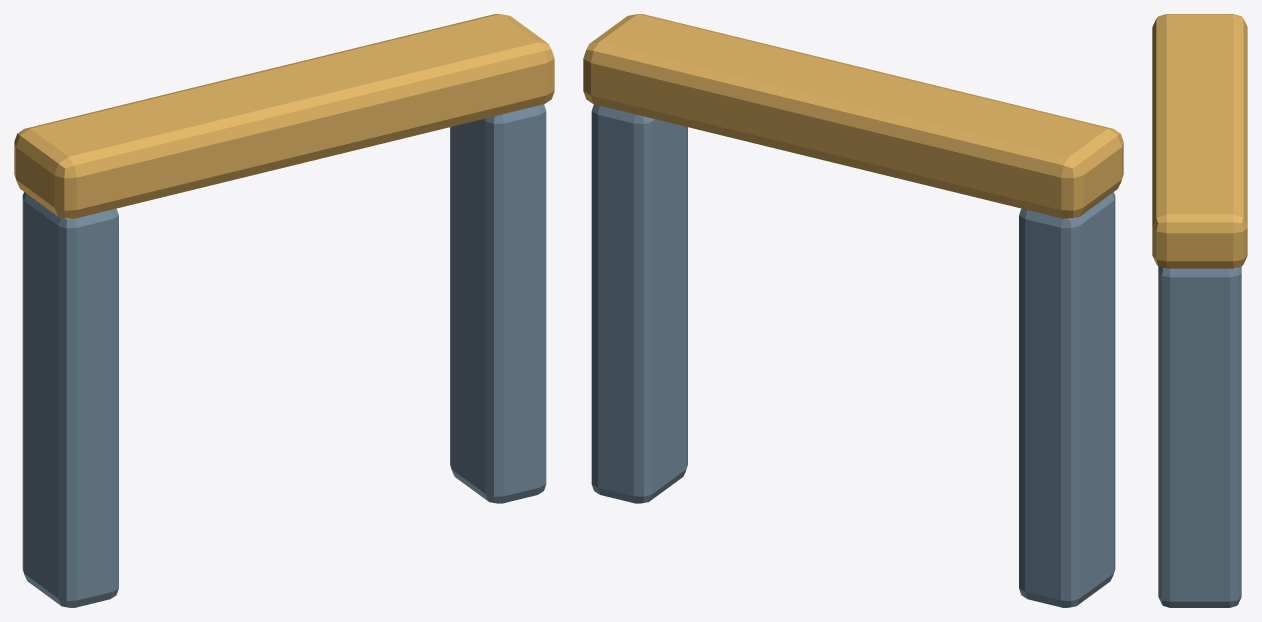
3 views of the same model, side by side, from view 1: azimuth 30°, elevation 25°; view 2: azimuth 150°, elevation 25°; view 3: azimuth 270°, elevation 25° (orthographic). The views are drawn at different scales.
Visible parts, largest first — view 1: ai_export.015; view 2: ai_export.015; view 3: ai_export.015.
Part boxes in pixels (<box>): ai_export.015: <box>14,14,554,607</box>; ai_export.015: <box>583,14,1123,607</box>; ai_export.015: <box>1152,14,1247,607</box>.
Size of the model in its own units: 2.1 by 1.83 by 0.4.
